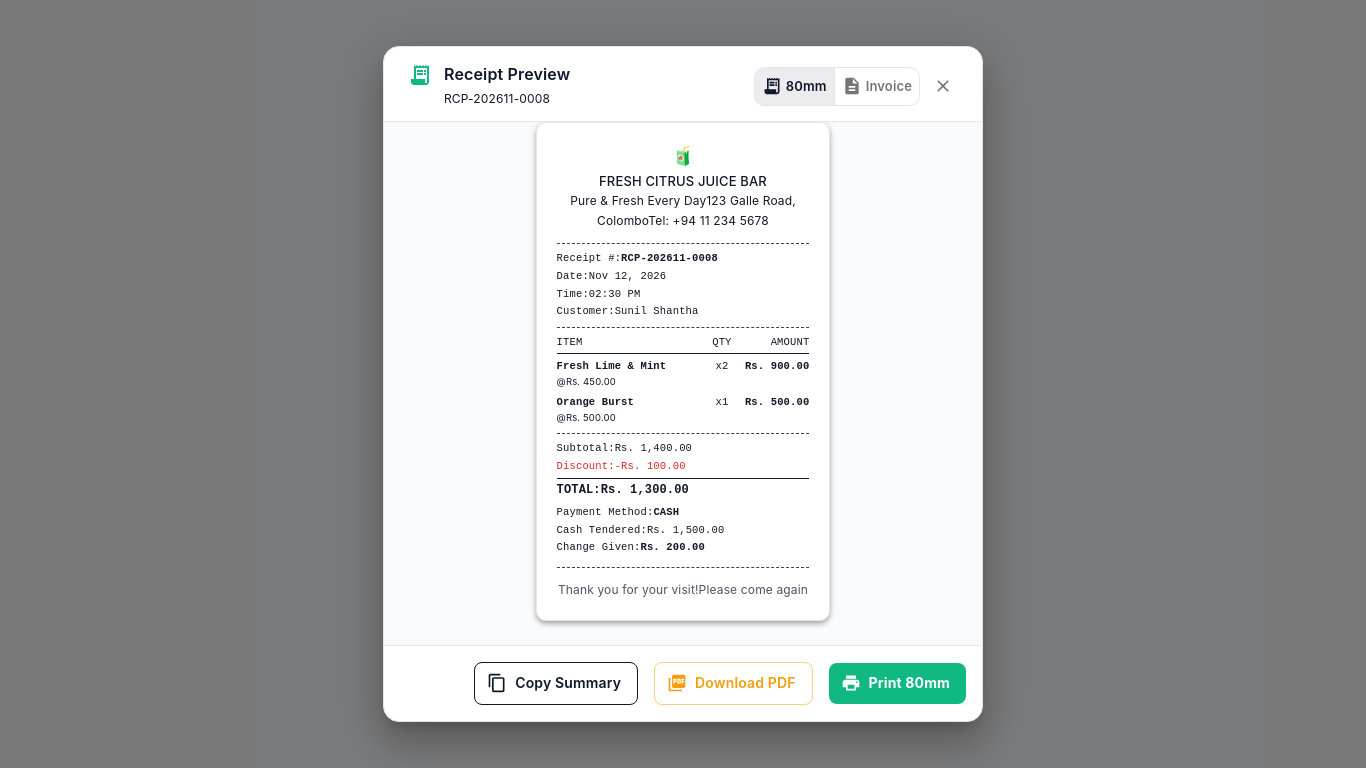
Scenario: ReceiptPreviewModal Suite › switches between 80mm thermal roll view and standard invoice document view
Switch to document view
Click the button with aria-label "Standard Invoice Document Preview" at (877, 86), box [834,67,920,106]
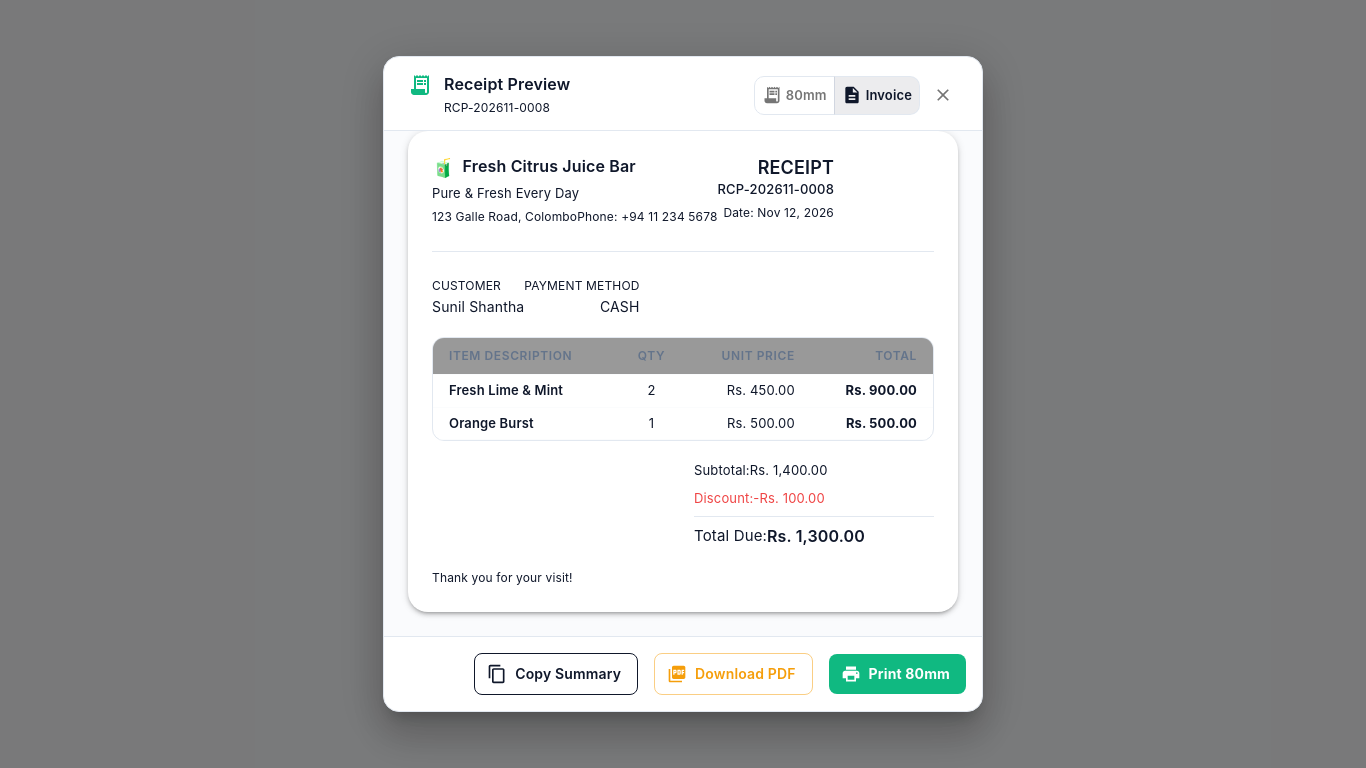
Expected: the column heading "Item Description" is shown, [433,338,616,375]
Expected: the heading "Total Due:" is shown, [694,526,767,548]
